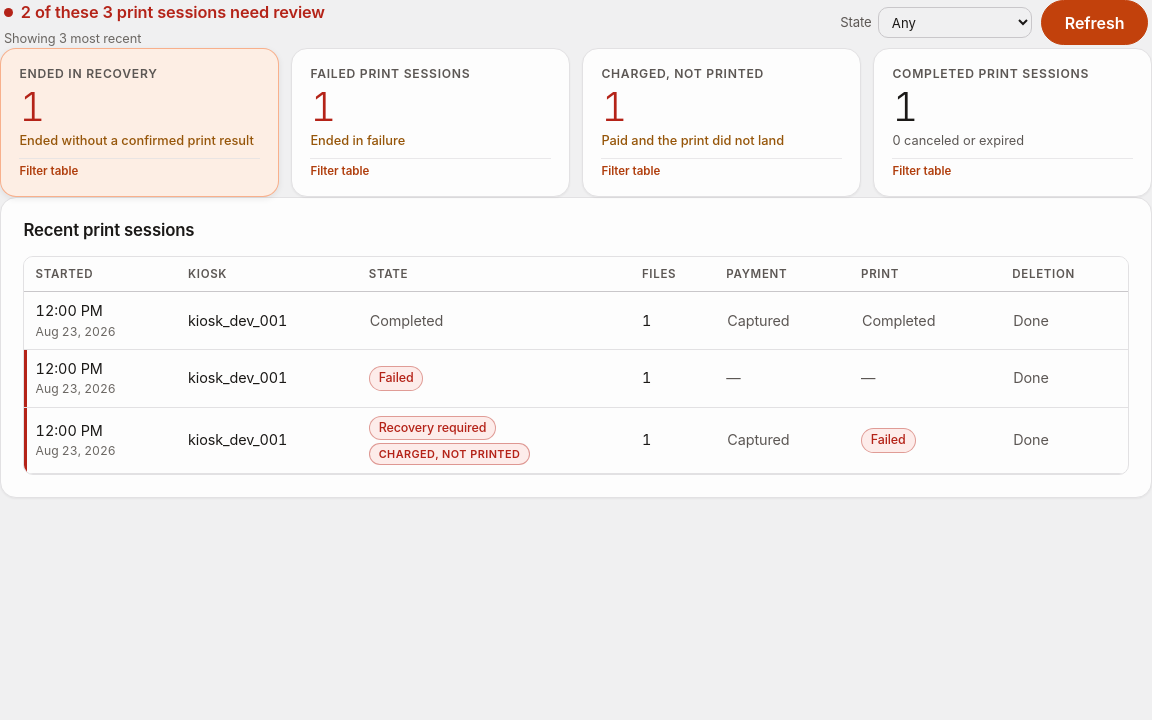
Test: the sessions table › opens the session in a dialog carrying its identifier, and returns focus on close
Click the button with aria-label "Completed, started" at [101, 321], box x1=36 y1=300 x2=166 y2=341
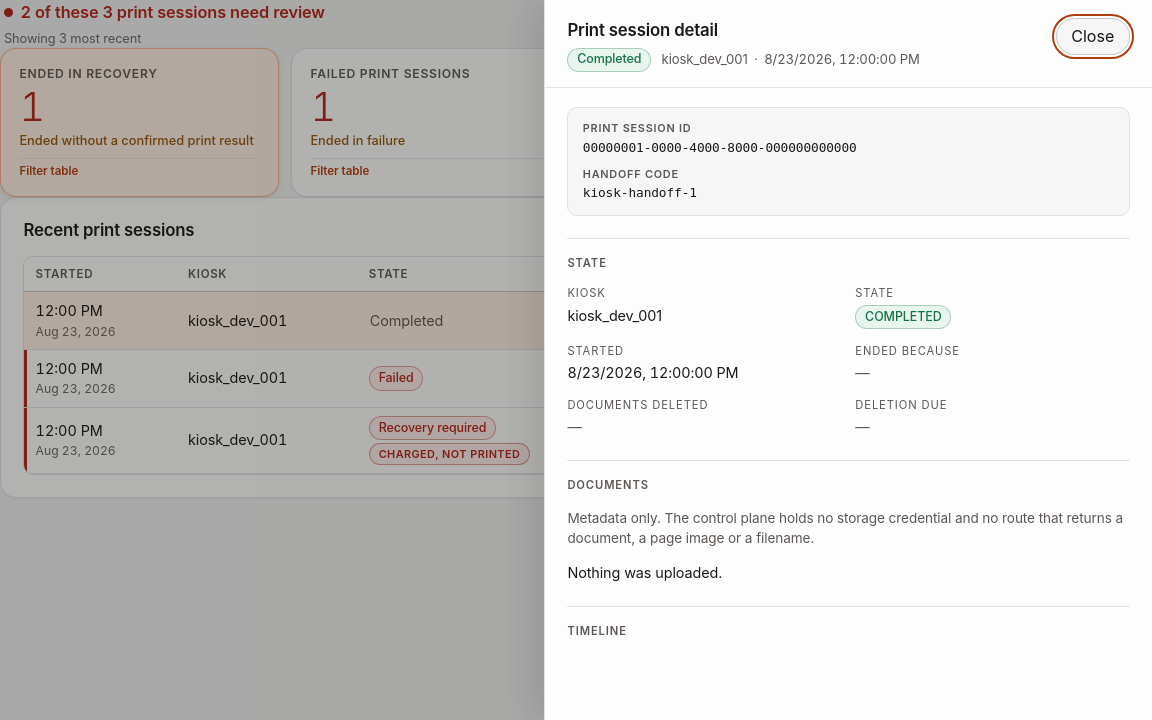
expect the text "kiosk-handoff-1" is shown: met, box x1=583 y1=186 x2=697 y2=200
Click the button "Close" at [1093, 36], box x1=1056 y1=18 x2=1130 y2=55
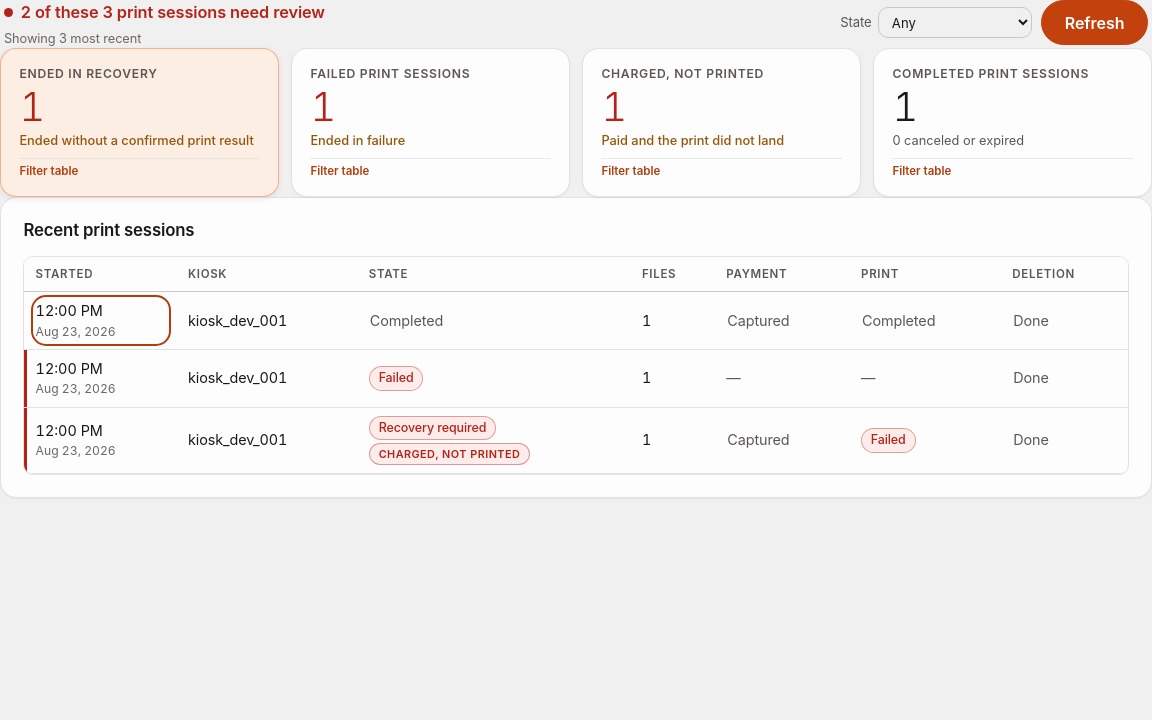
expect the dialog is gone: met
